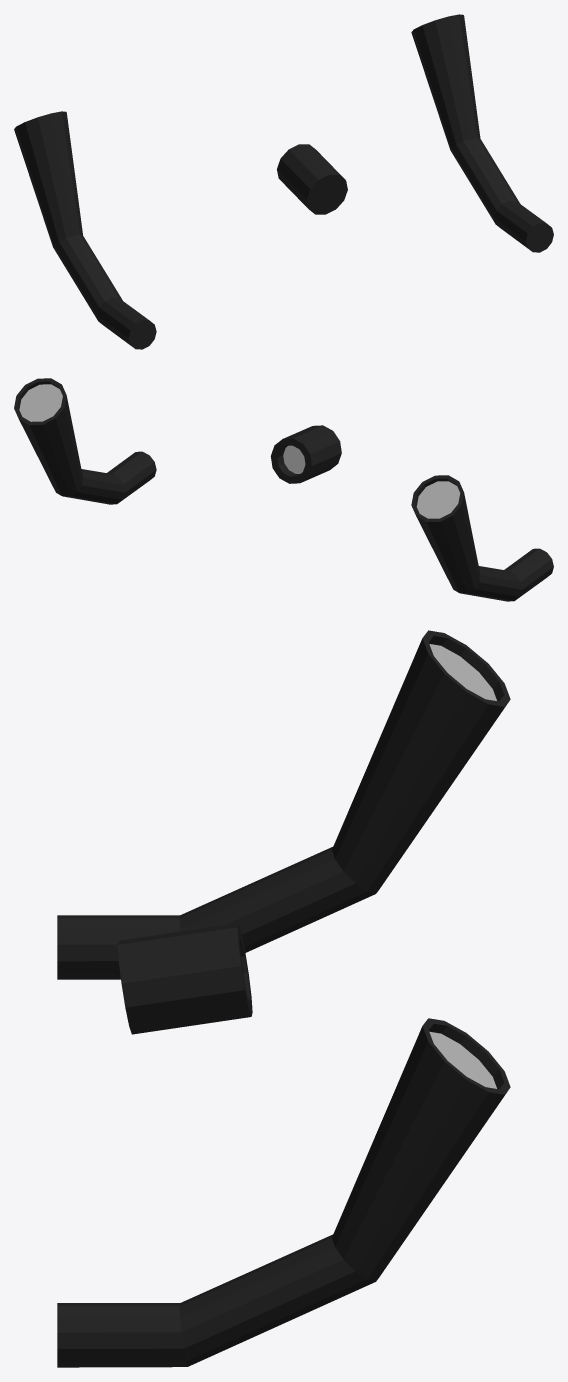
File: exhaust3.glb
3 views of the same model, one above another, from view 1: azimuth 30°, elevation 25°; view 2: azimuth 150°, elevation 25°; view 3: azimuth 270°, elevation 25° (orthographic). The views are drawn at different scales.
Parts seen in each view (by area): view 1: exhaust3; view 2: exhaust3; view 3: exhaust3.
Boxes of the visible parts, <box> form: exhaust3: <box>14,14,553,349</box>; exhaust3: <box>14,378,553,601</box>; exhaust3: <box>57,630,510,1367</box>.
Size of the model in its own units: 2.54 by 0.9247 by 1.12.
Materials: 1 (1 with a texture image).
